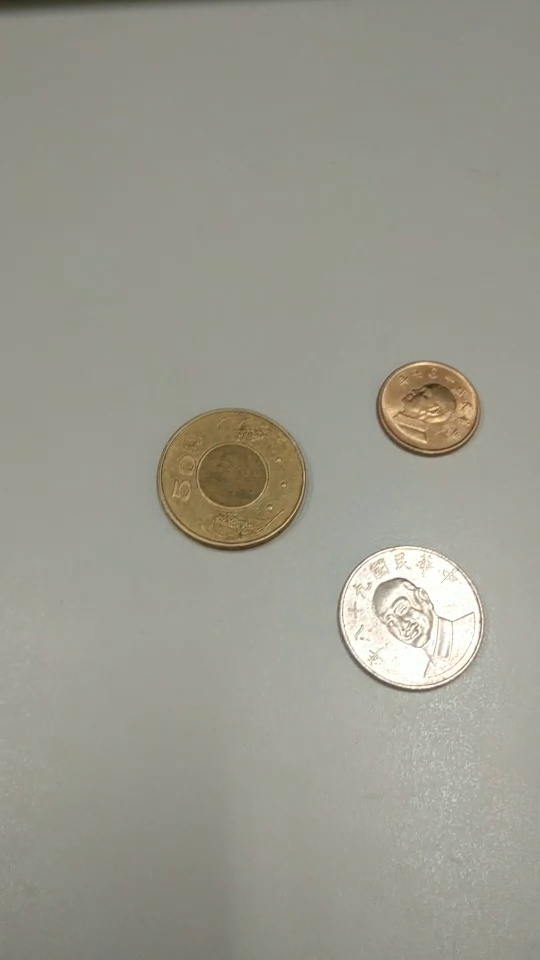NT$ 1: (375, 362, 483, 457)
NT$ 10: (336, 542, 487, 693)
NT$ 50: (155, 406, 308, 555)
